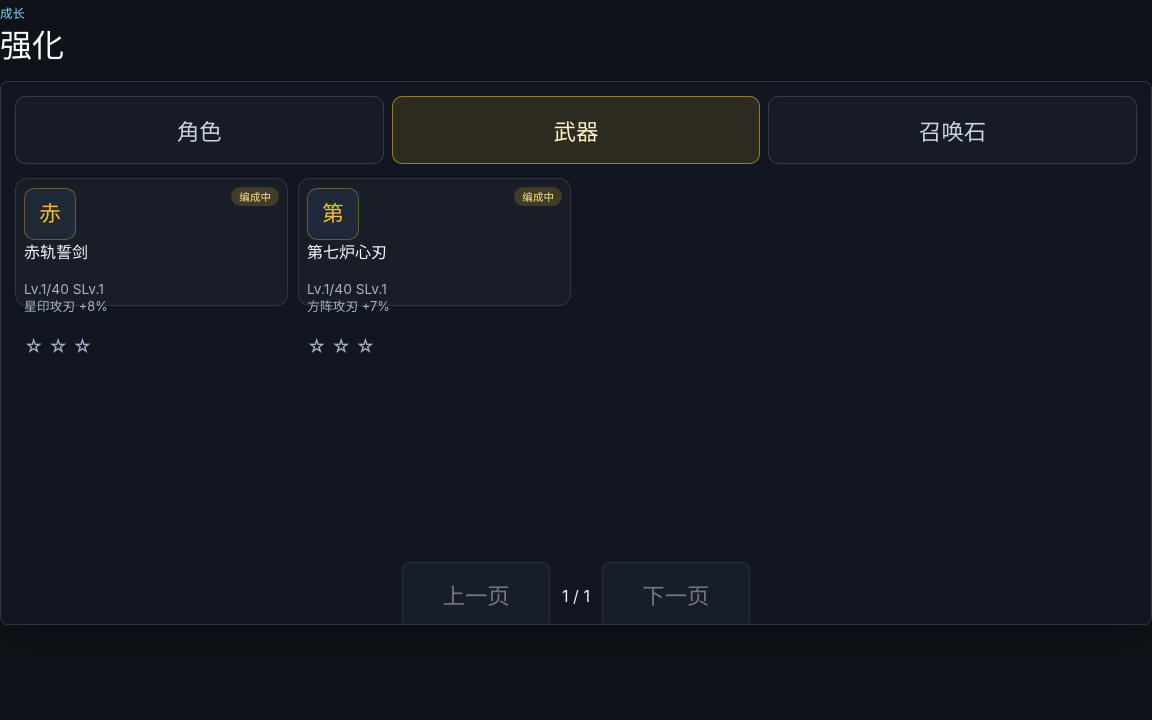
upgrade screen › applies target-based skill upgrades after confirmation
Click the button with test id "weapon-card-weapon-furnace-grid-blade": click(538, 197) [298, 178, 571, 306]
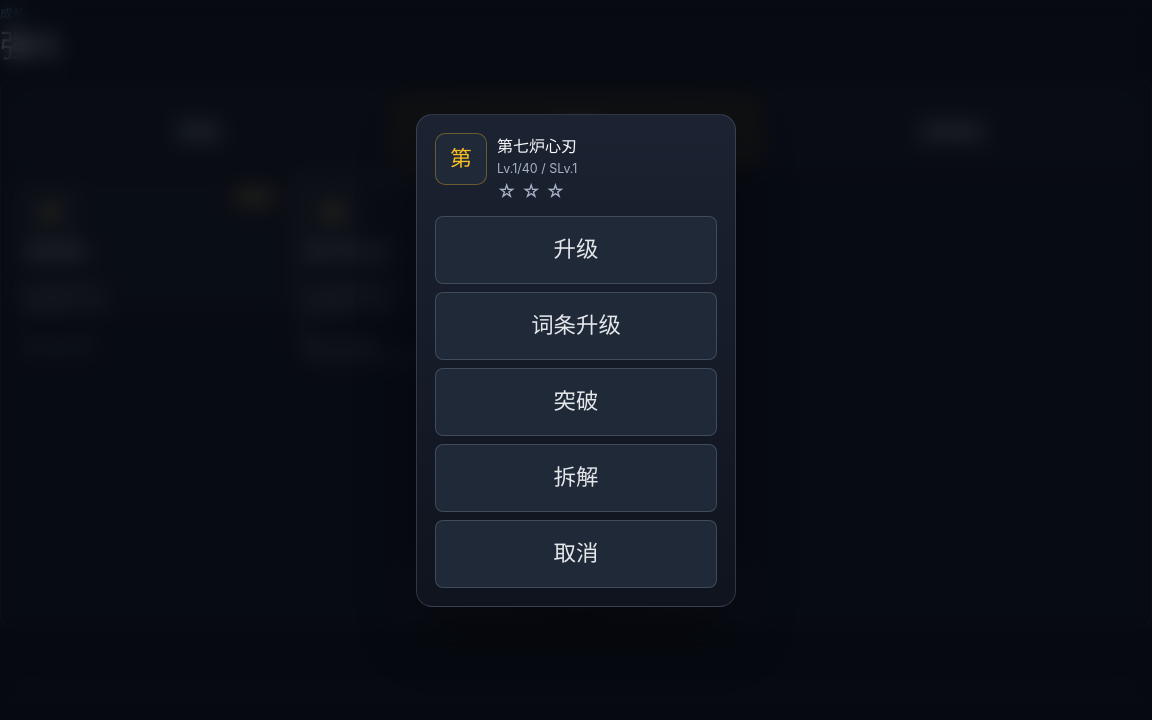
Click the button with test id "action-词条升级": click(576, 326) [435, 292, 717, 360]
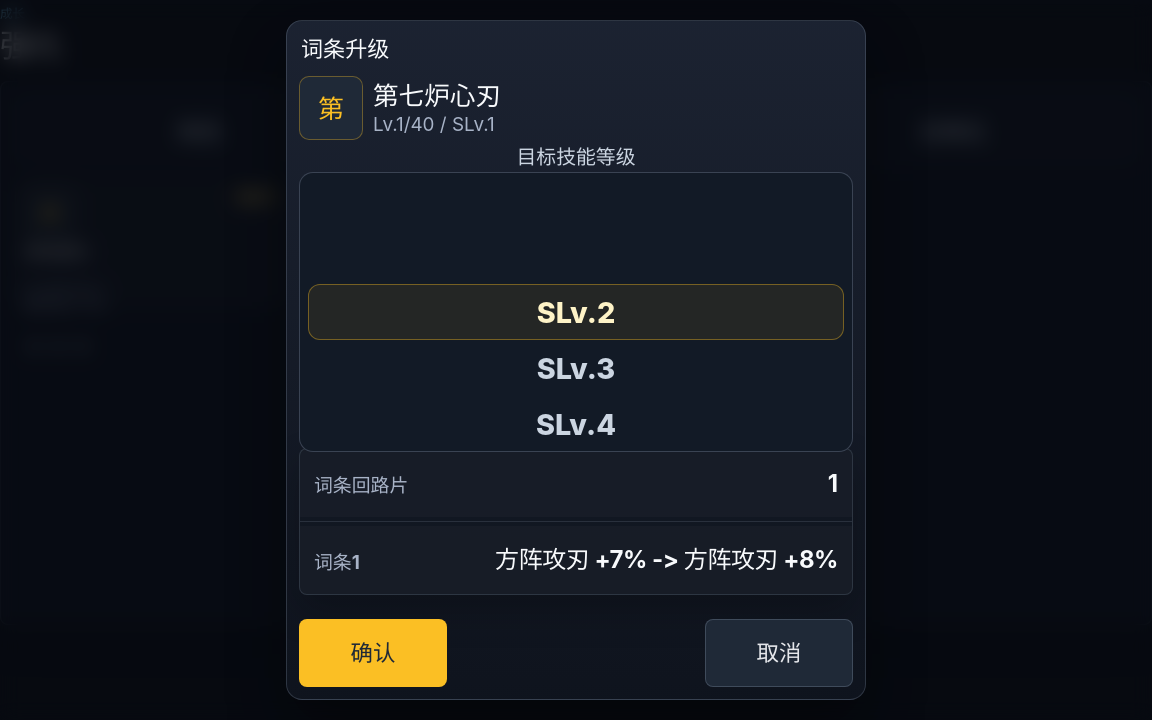
Click the button "SLv.4": click(576, 424) [300, 396, 852, 452]
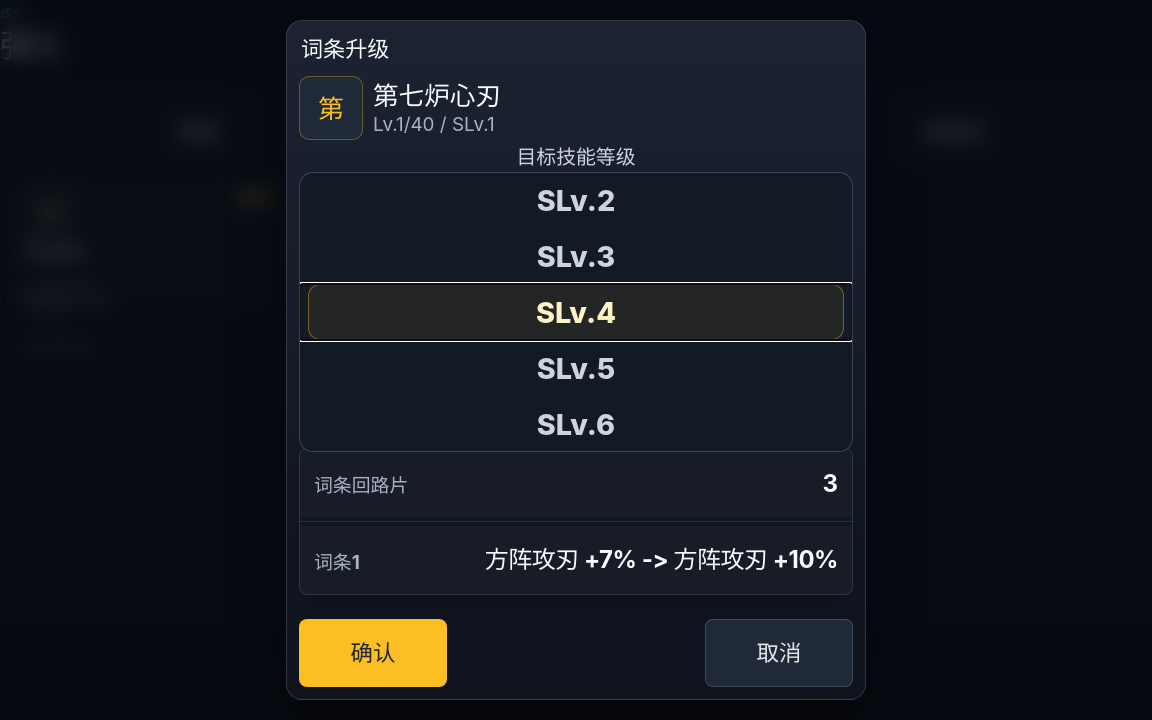
Expected: the text "词条回路片" is shown, [314, 474, 408, 496]
Expected: the text "方阵攻刃 +7% -> 方阵攻刃 +10%" is shown, [485, 545, 838, 574]
Click the button "确认": click(373, 653) [299, 619, 447, 687]
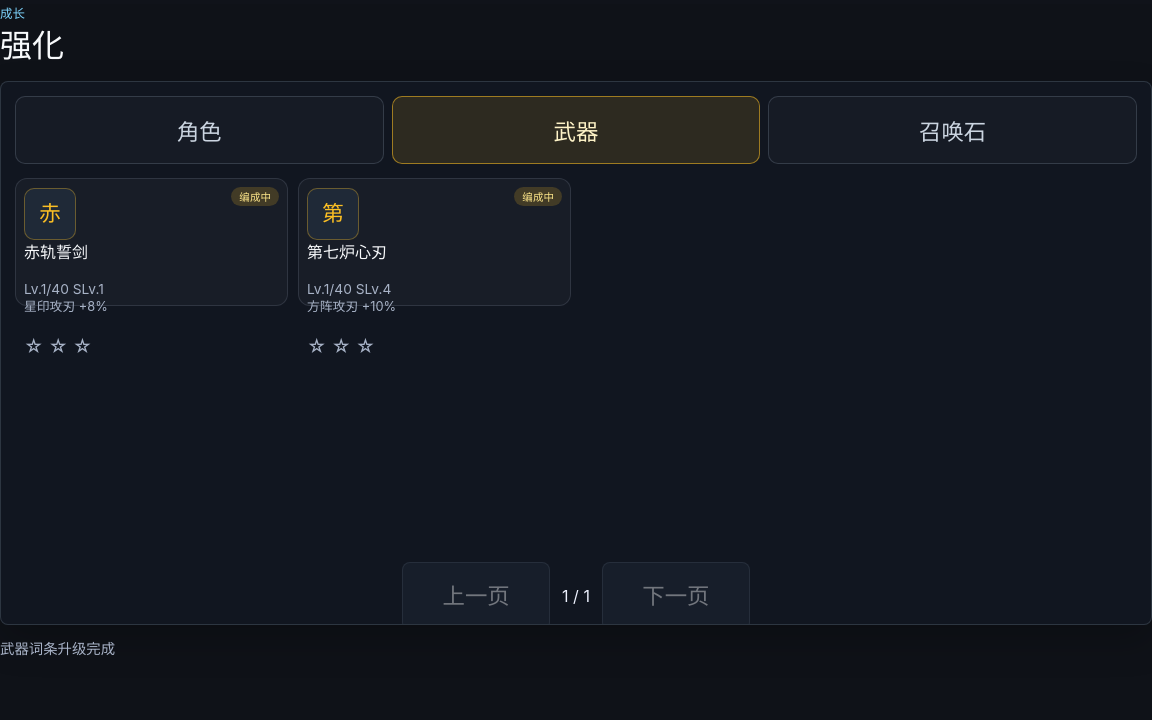
Expected: the text "武器词条升级完成" is shown, [0, 640, 115, 657]
Expected: the text "Lv.1/40 SLv.4" is shown, [307, 281, 391, 297]
